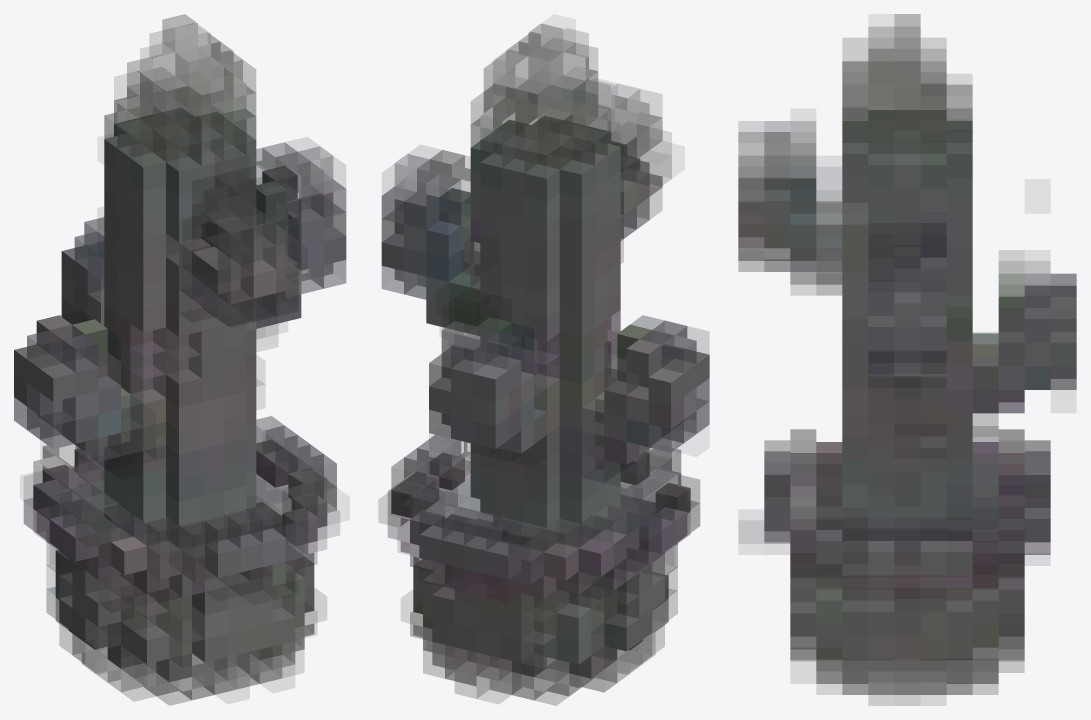
File: iter_100.obj
The picture shows the model from 3 angles, left to right: view 1: azimuth 30°, elevation 25°; view 2: azimuth 150°, elevation 25°; view 3: azimuth 270°, elevation 25°; orthographic projection.
Visible parts, largest first — view 1: iter_100; view 2: iter_100; view 3: iter_100.
Boxes of the visible parts, x1,y1,x2,y2 form: iter_100: (14,14,346,705); iter_100: (379,23,709,705); iter_100: (738,14,1076,705).
Bounding box in the file's own units: 1.3 × 2.7 × 1.3.
